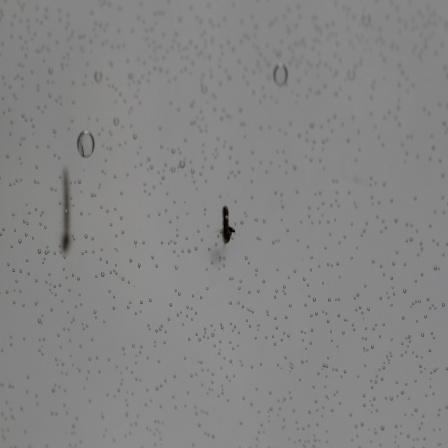Jentik-Nyamuk: (57, 167, 77, 256), (218, 202, 238, 249)
